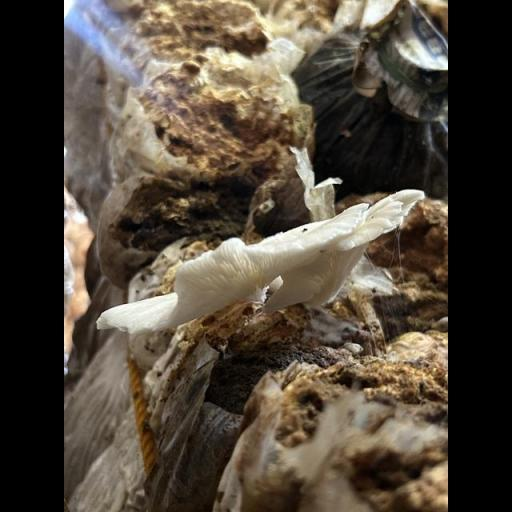White Oyster Mushroom: (101, 184, 427, 331)
